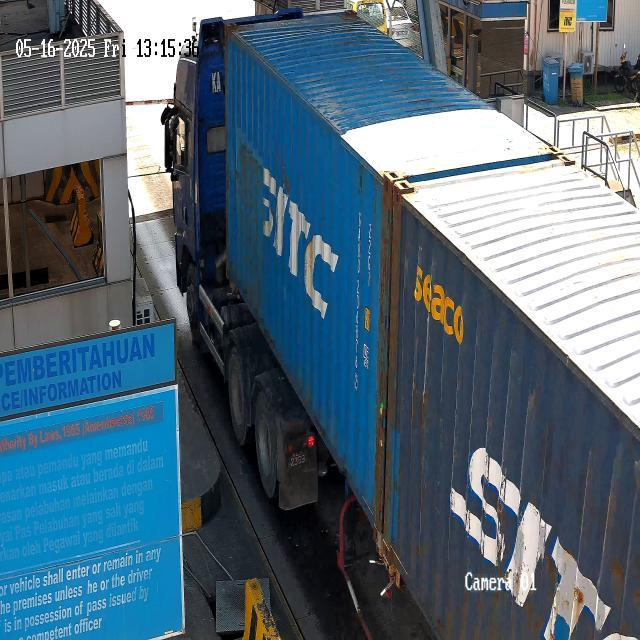ISO: (366, 224, 380, 299)
container_number: (350, 198, 368, 406)
